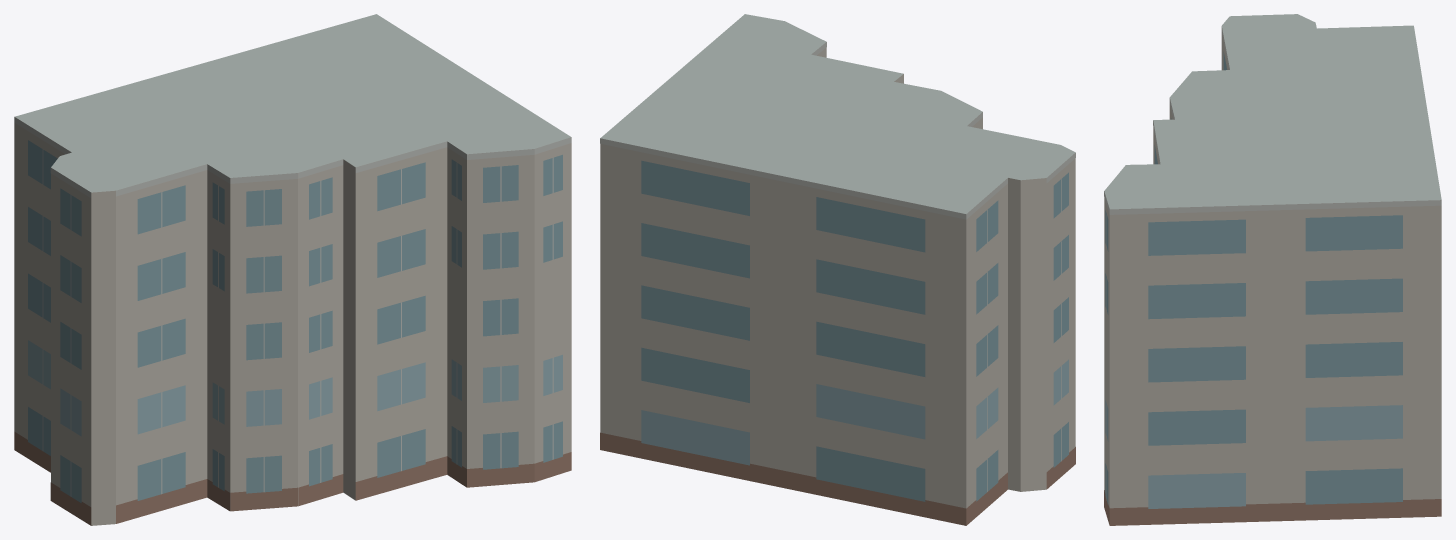
File: survey-upis-32872799.glb
3 views of the same model, side by side, from view 1: azimuth 30°, elevation 25°; view 2: azimuth 150°, elevation 25°; view 3: azimuth 270°, elevation 25° (orthographic). The views are drawn at different scales.
Visible parts, largest first — view 1: survey-upis-32872799.tmp; view 2: survey-upis-32872799.tmp; view 3: survey-upis-32872799.tmp.
Part boxes in pixels (x1=…): survey-upis-32872799.tmp: x1=14, y1=14, x2=571, y2=525; survey-upis-32872799.tmp: x1=600, y1=14, x2=1075, y2=525; survey-upis-32872799.tmp: x1=1104, y1=14, x2=1441, y2=525.
Bounding box in the file's own units: 18.41 × 13.9 × 13.44.
